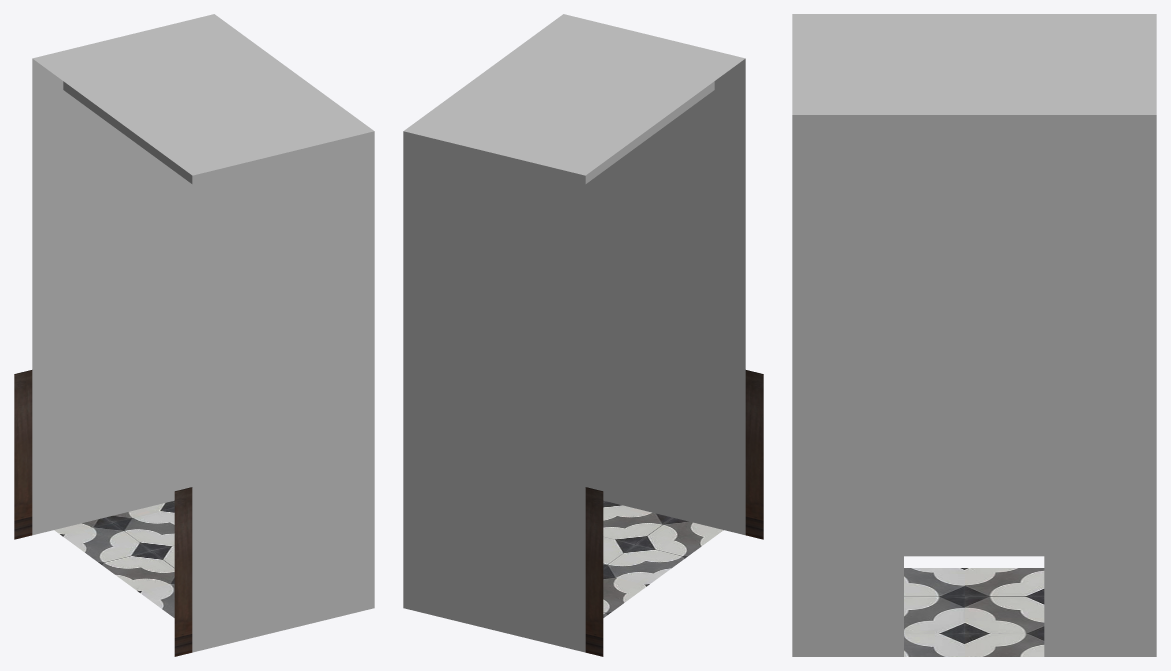
Rendered from ExportLibraryArch_02.FBX.
3 renders of one model, left to right at view 1: azimuth 30°, elevation 25°; view 2: azimuth 150°, elevation 25°; view 3: azimuth 270°, elevation 25°, orthographic. The views are drawn at different scales.
Visible parts, largest first — view 1: library_arch; view 2: library_arch; view 3: library_arch.
Boxes of the visible parts, left/top/right/bottom form: library_arch: left=14, top=14, right=374, bottom=656; library_arch: left=403, top=14, right=763, bottom=656; library_arch: left=792, top=14, right=1156, bottom=656.
Bounding box in the file's own units: 50.48 × 70 × 115.
